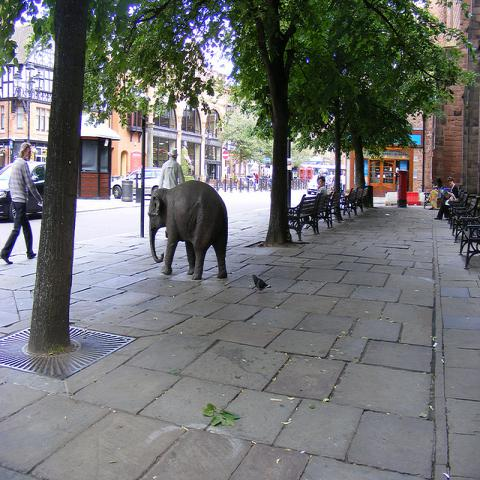car: (0, 160, 46, 221), (110, 169, 163, 198)
